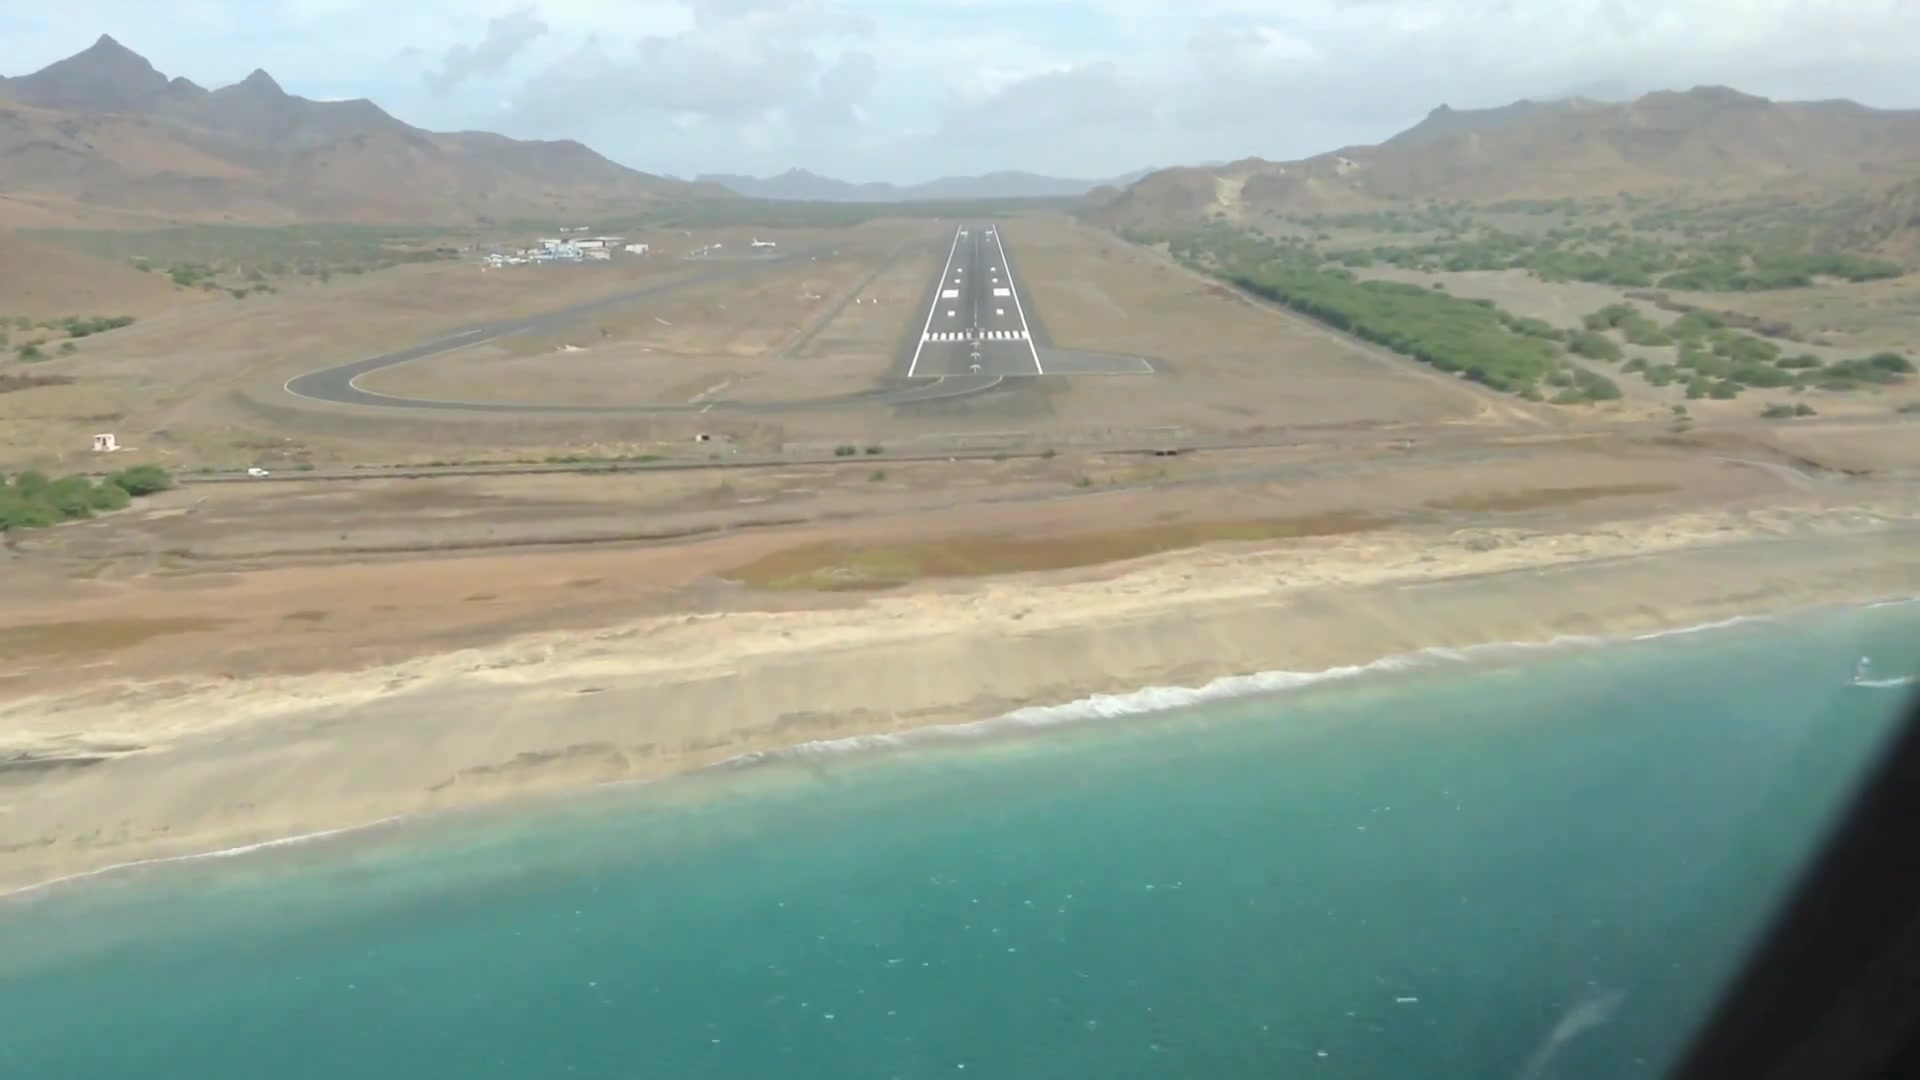entrance: (915, 328, 1033, 345)
runway: (907, 219, 1043, 378)
